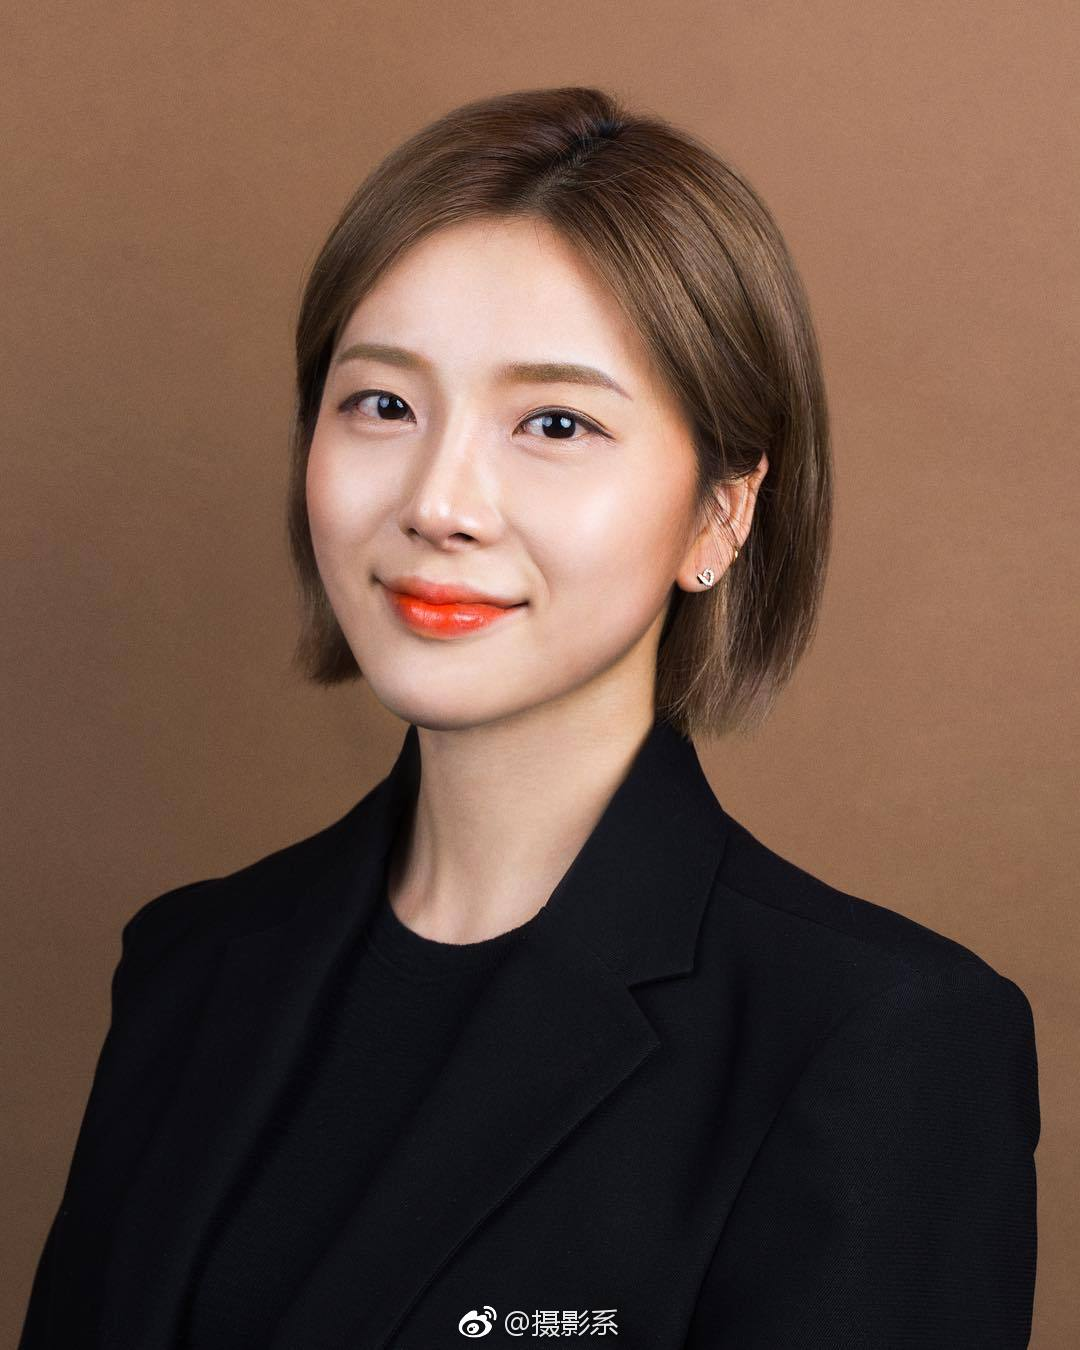unmask: (311, 245, 700, 718)
